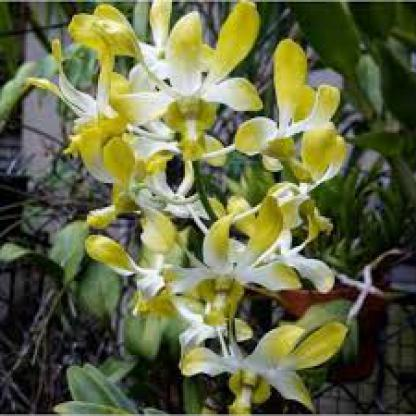ANGGREK: (23, 12, 375, 406)
